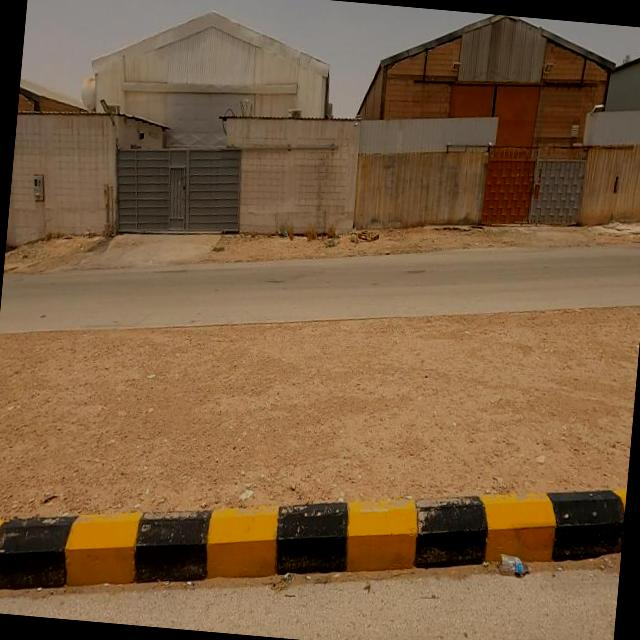debris: (454, 499, 584, 624)
